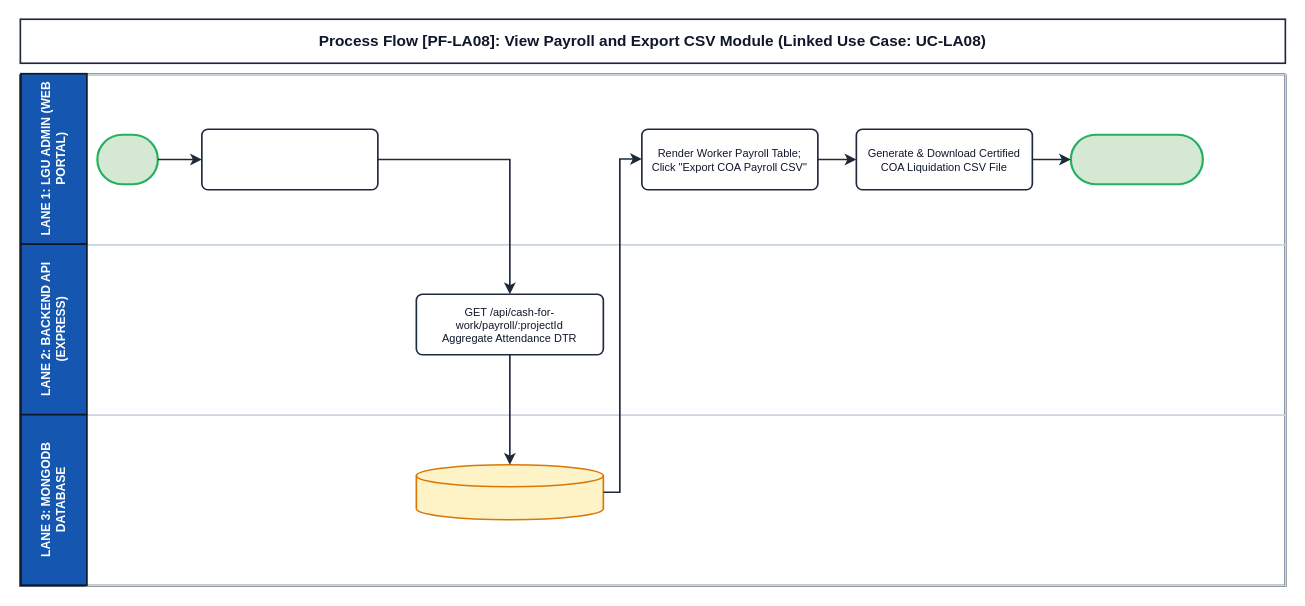
The diagram is 1305 pixels wide and 606 high, and some of its shapes have lost their labels. Each missing label, with the centre of its shape:
END (CSV Exported): [1136,159]
MongoDB: Query AttendanceRecords & Calculate Gross/Net Wages: [509,491]
Select Active CFW Project; Click "View Payroll Ledger": [289,159]
START: [127,159]
